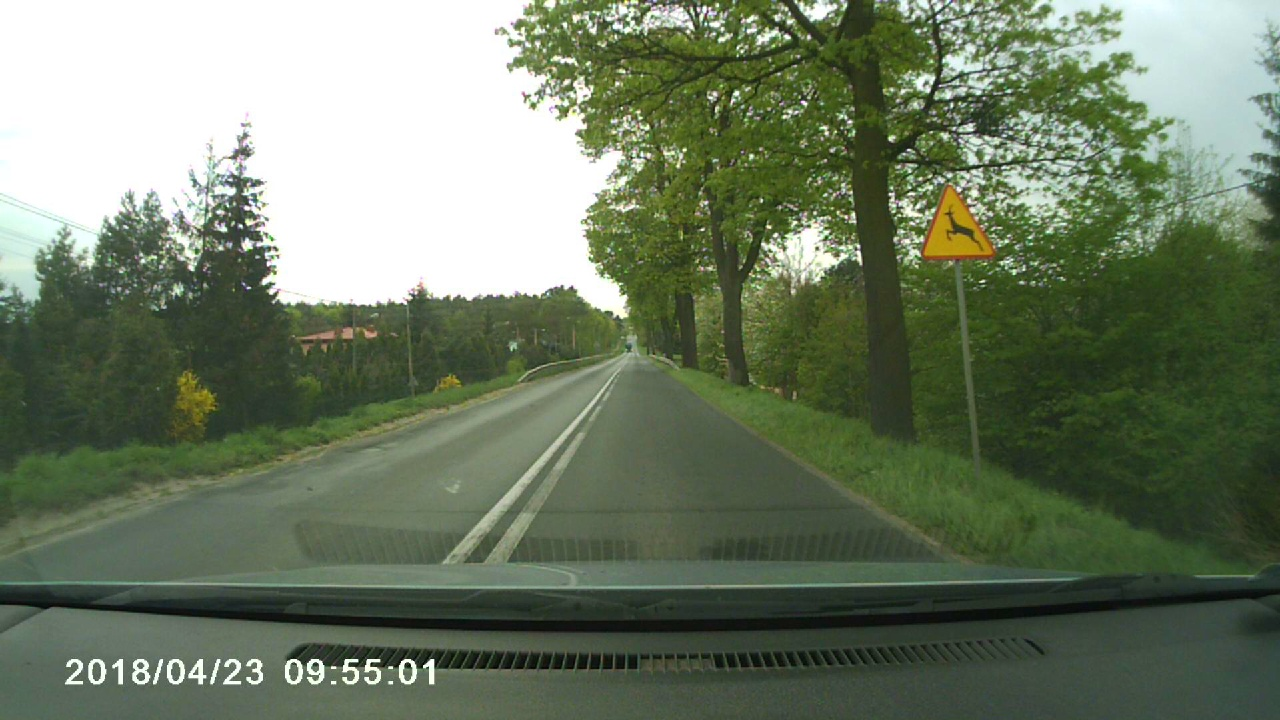A18b: (922, 184, 997, 259)
